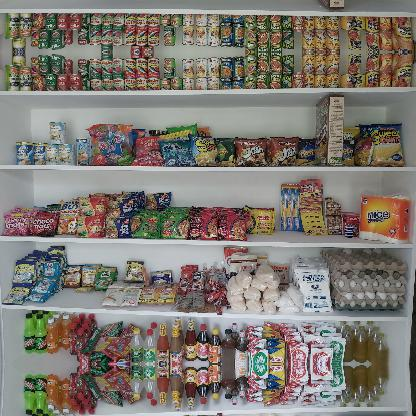Koko-Krunch: (314, 94, 344, 166)
